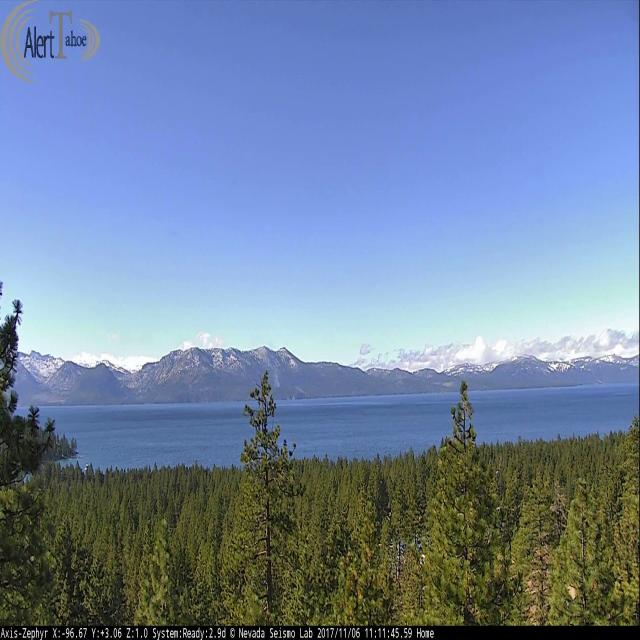smoke: (266, 362, 280, 388)
